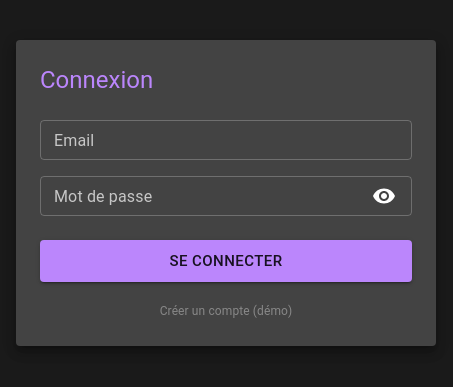
Test: Login › affiche une erreur si les champs sont vides à la soumission
Click the button "Se connecter" at [226, 261], box left=40, top=240, right=412, bottom=282
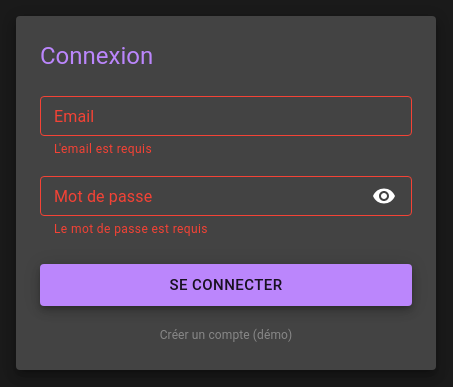
Expected: the text "L'email est requis" is shown, left=54, top=142, right=152, bottom=156
